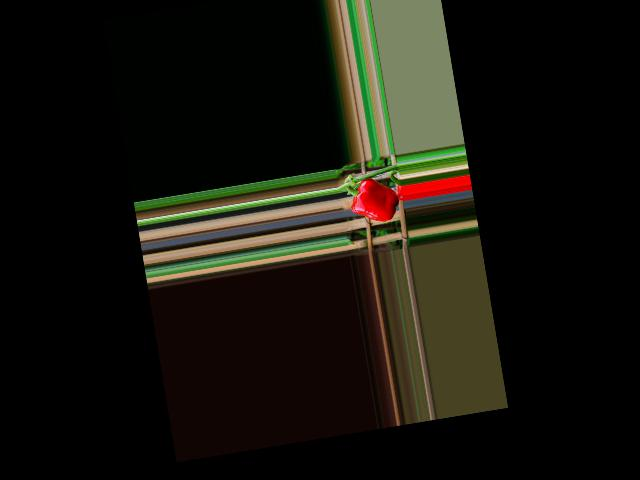bell_pepper: (346, 171, 401, 229)
